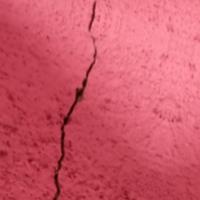crack: (44, 0, 124, 199)
